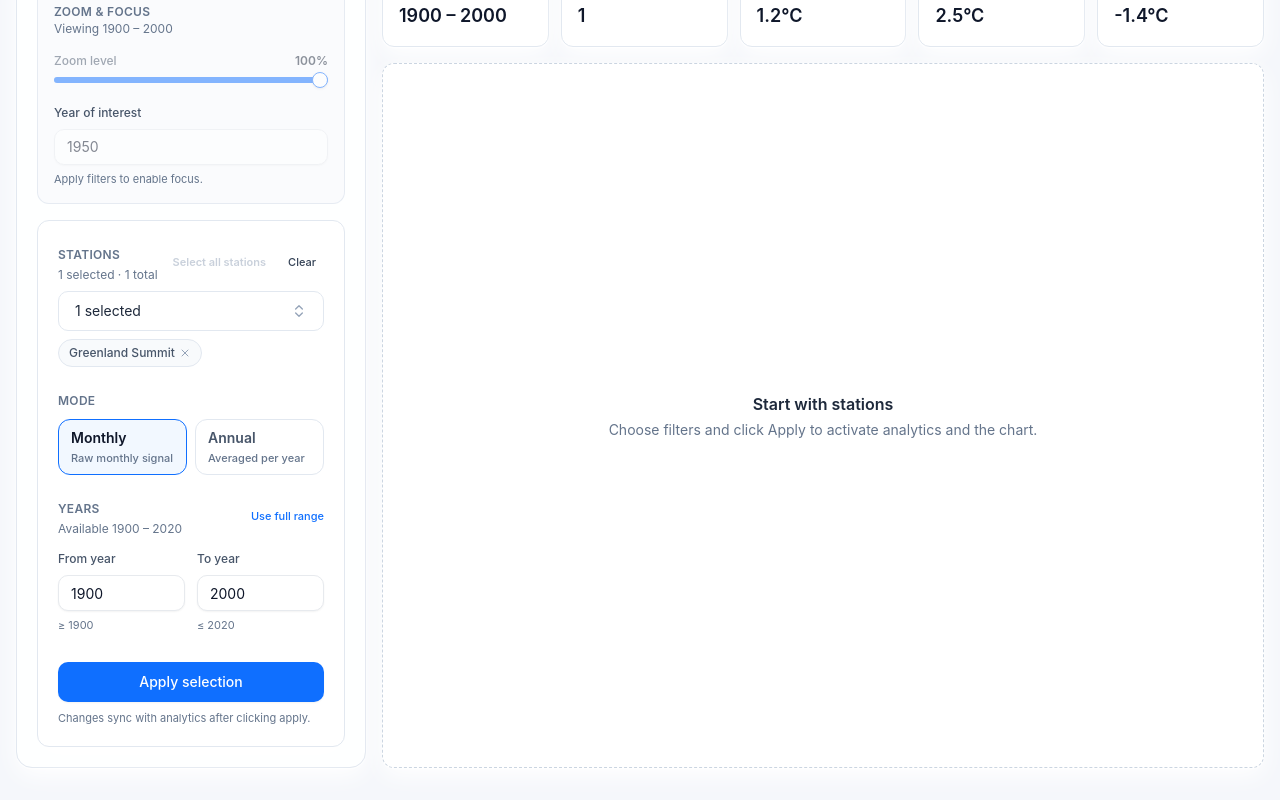
Test: ClimateExplorerPage › shows the error banner when the chart request fails
The image size is (1280, 800).
(page scrolled)
Click the button "Apply selection" at (191, 682), box [58,662,324,702]
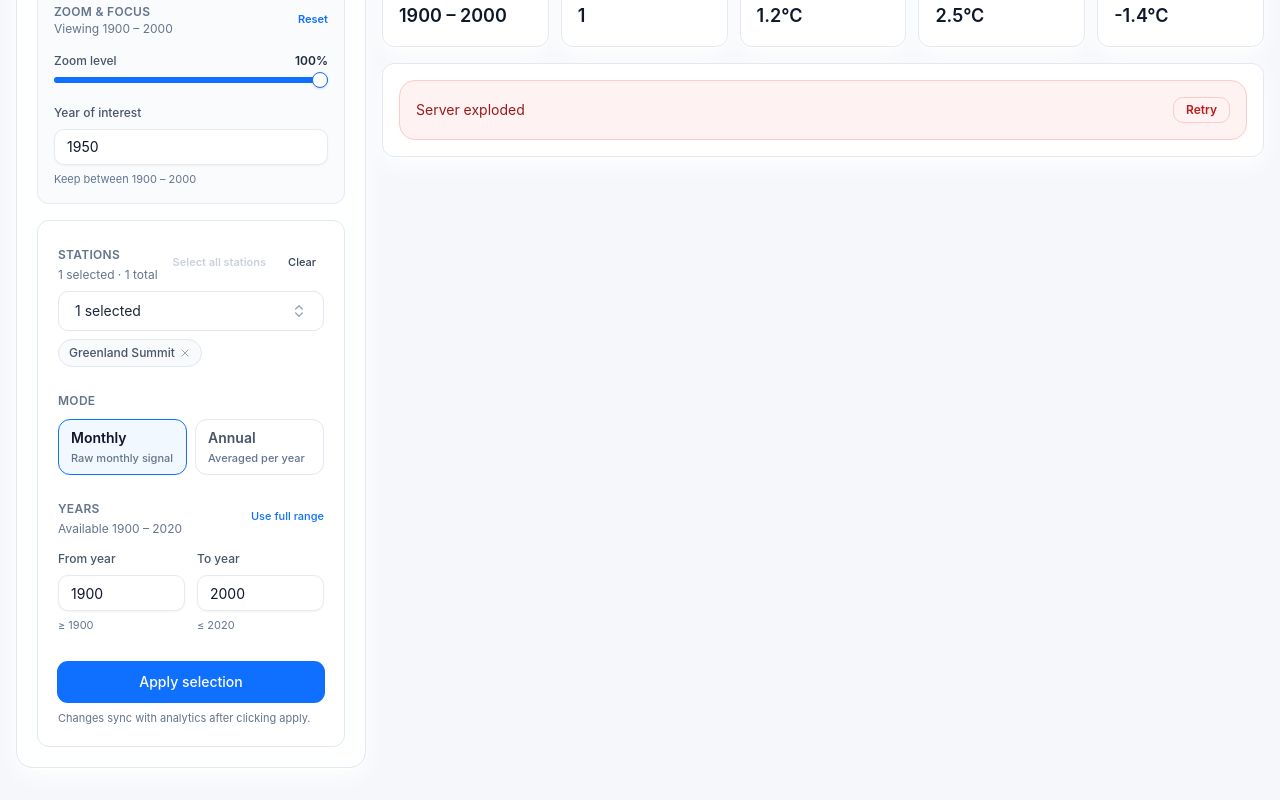
Expected: the text "Server exploded" is shown, [416,100,525,120]
